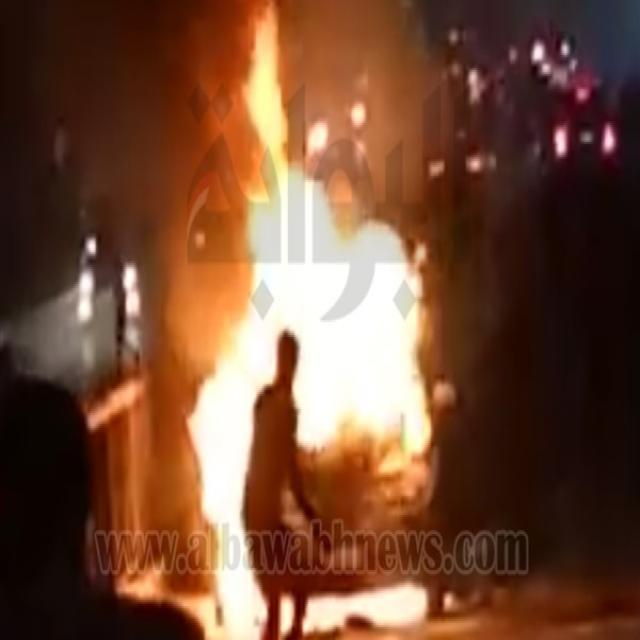Fire: (121, 174, 431, 637), (236, 11, 282, 176), (304, 584, 426, 631)
Smoke: (0, 0, 440, 529)
